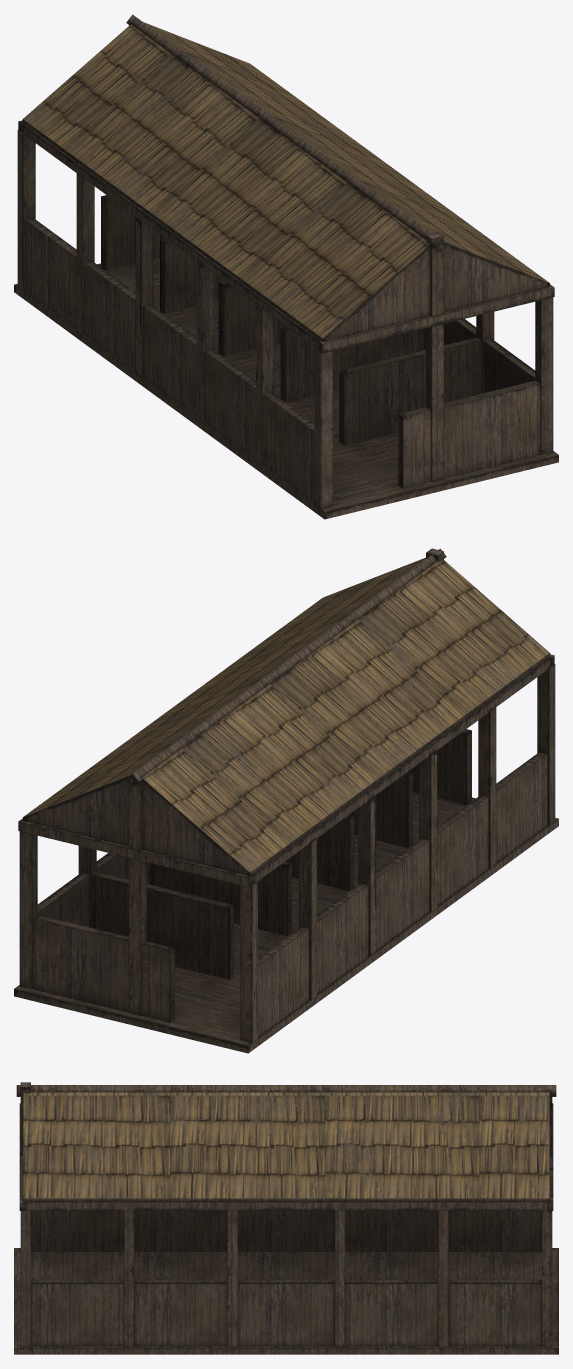
The model's file is horse_stable_animal.glb.
The picture shows the model from 3 angles, top to bottom: view 1: azimuth 30°, elevation 25°; view 2: azimuth 150°, elevation 25°; view 3: azimuth 270°, elevation 25°; orthographic projection. The views are drawn at different scales.
Parts seen in each view (by area): view 1: Horse Shade Stable; view 2: Horse Shade Stable; view 3: Horse Shade Stable.
Boxes of the visible parts, box(x1,y1,x2,y2) form: Horse Shade Stable: box(14, 14, 558, 519); Horse Shade Stable: box(14, 548, 558, 1053); Horse Shade Stable: box(14, 1082, 558, 1354).
Size of the model in its own units: 3.25 by 3.32 by 7.46.
1 material, 1 textured.
